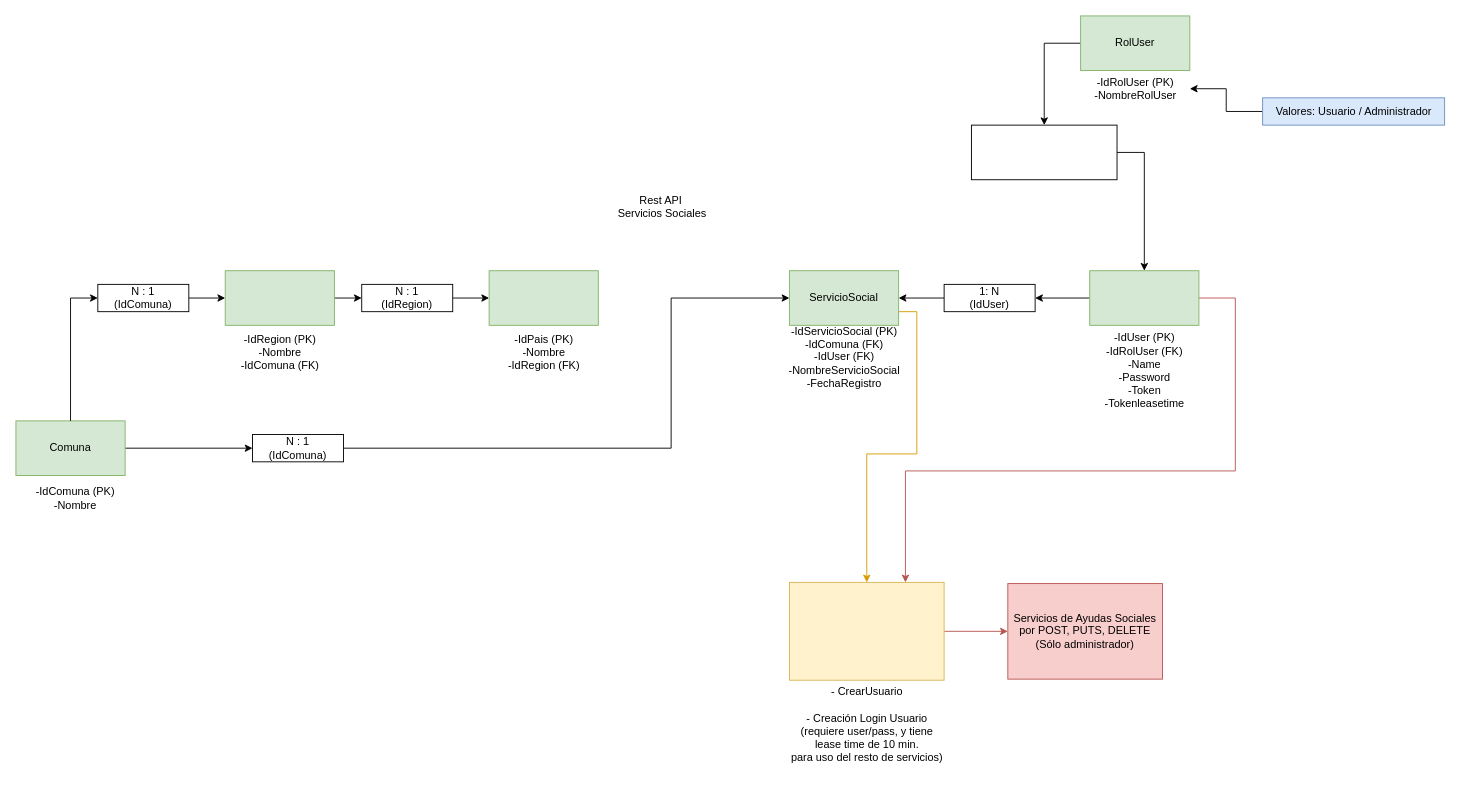
The diagram is 1461 pixels wide and 786 high, and some of its shapes have lost their labels. The box of each missing label's shape, as (x1, y1, x2, y2) in pixels:
N : 1 (IdRolUser): (971, 124, 1117, 180)
Pais: (488, 270, 598, 325)
Region: (224, 270, 334, 325)
Servicios de Ayudas Sociales por GET, sin autenticación ( cualquier usuario): (789, 581, 944, 680)
User: (1089, 270, 1199, 325)
